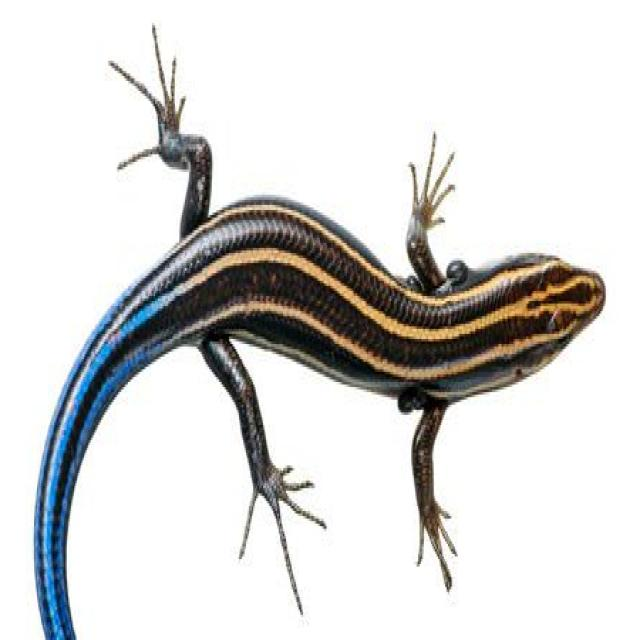lizard: (36, 28, 606, 637)
